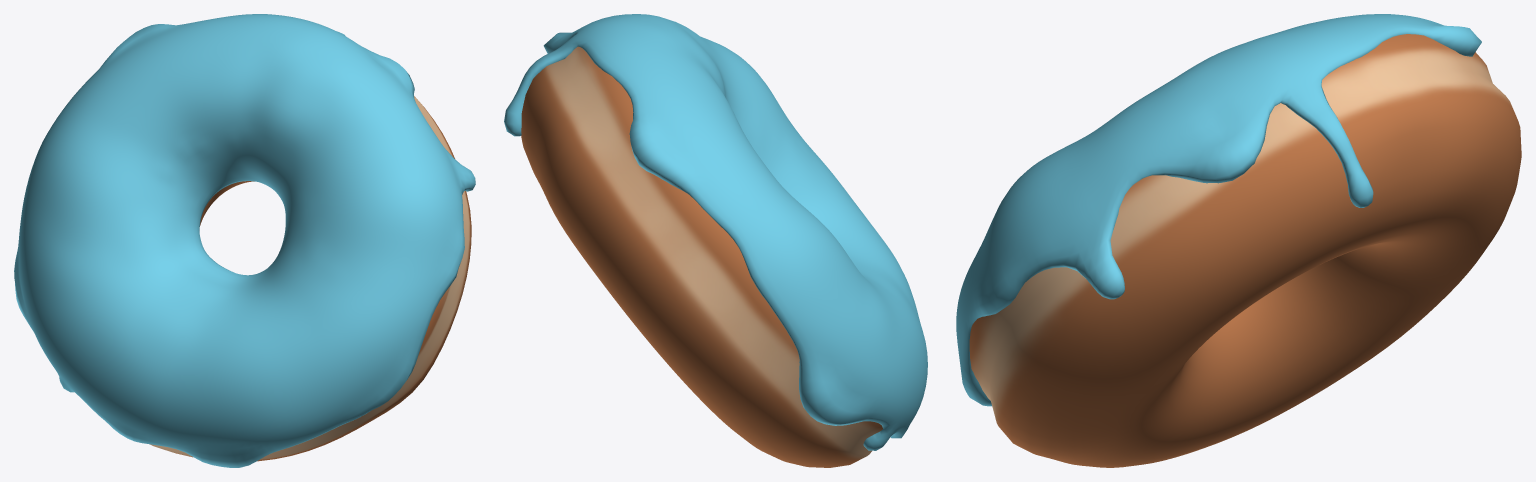
File: donut-no-sprinkles.glb
3 views of the same model, side by side, from view 1: azimuth 30°, elevation 25°; view 2: azimuth 150°, elevation 25°; view 3: azimuth 270°, elevation 25° (orthographic). The views are drawn at different scales.
Parts seen in each view (by area): view 1: Icing, Donut; view 2: Icing, Donut; view 3: Donut, Icing.
Boxes of the visible parts, left/top/right/bottom form: Icing: left=14, top=14, right=475, bottom=467; Donut: left=150, top=96, right=471, bottom=461; Icing: left=504, top=14, right=927, bottom=450; Donut: left=521, top=46, right=882, bottom=467; Donut: left=969, top=34, right=1521, bottom=467; Icing: left=956, top=14, right=1481, bottom=406.
Size of the model in its own units: 0.0944 by 0.0914 by 0.0975.
2 materials, 1 textured.
